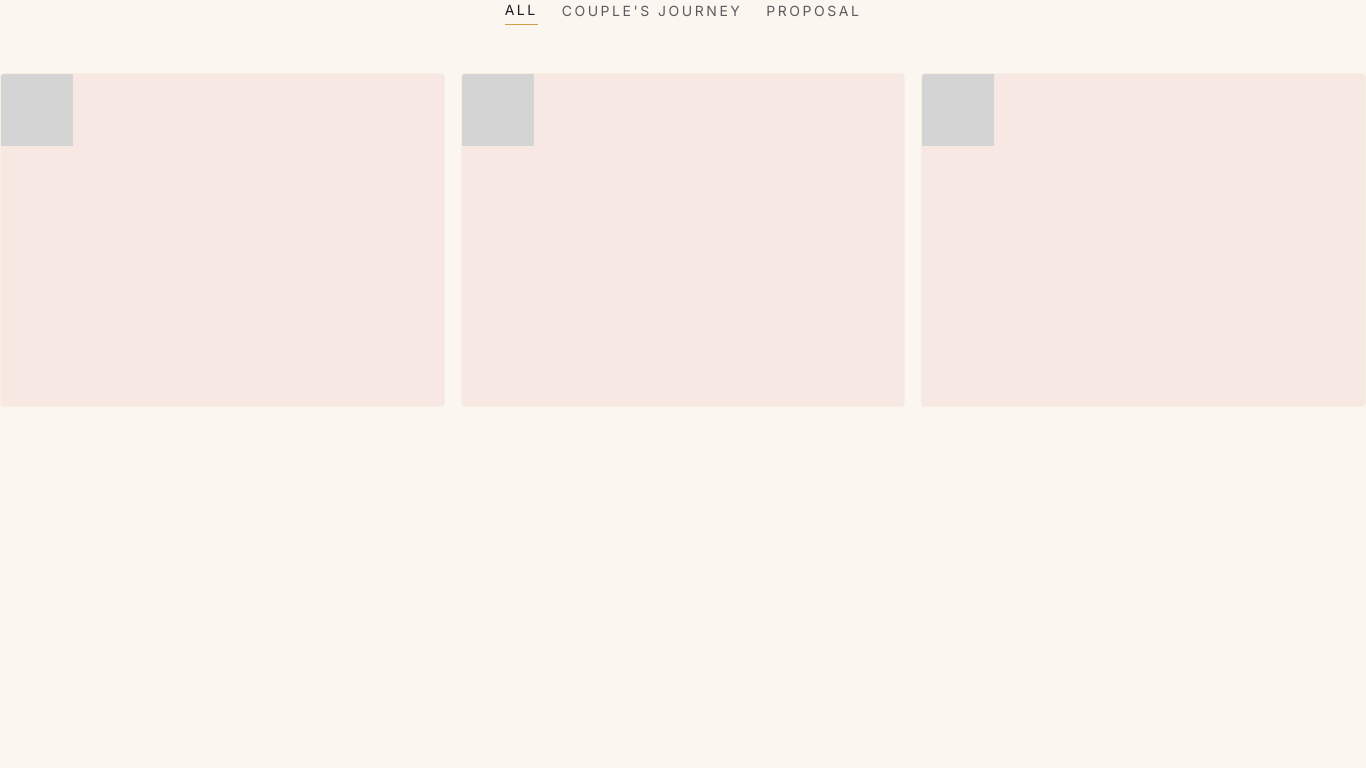
it: GalleryGrid › closes lightbox when close button is clicked
The width and height of the screenshot is (1366, 768).
Click the button named "Photo 1". click: (222, 240)
box: [0,73,445,407]
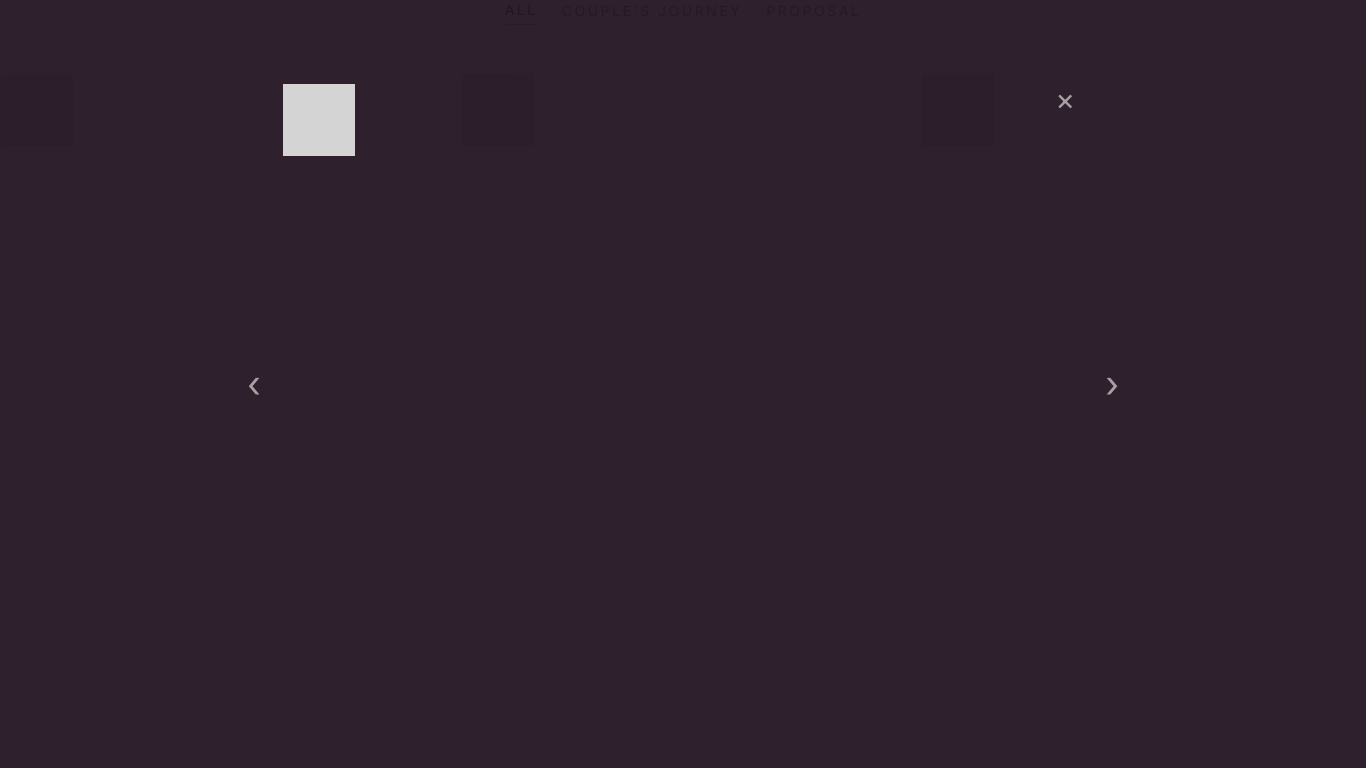
Click the button named "close lightbox". click: (1065, 99)
box: [1055,84,1075,114]
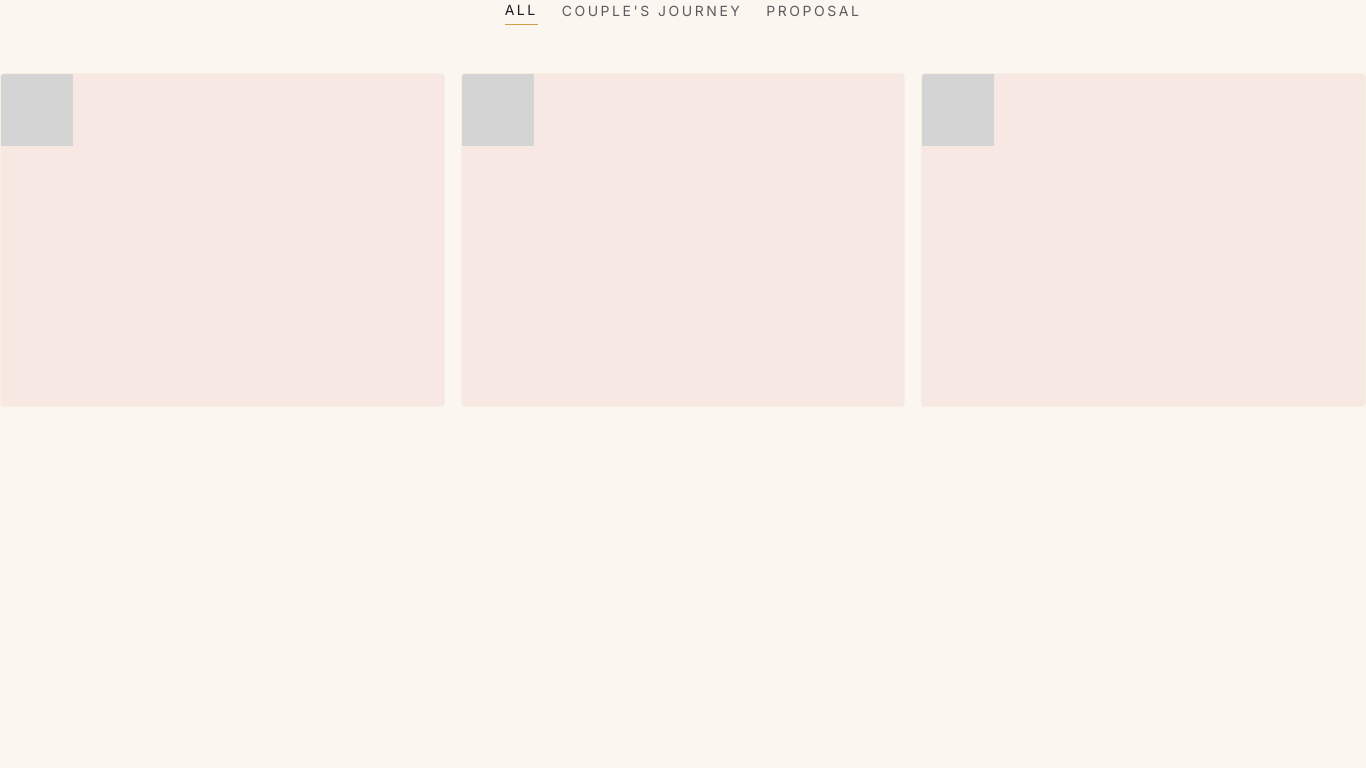
Expected: the dialog is gone
